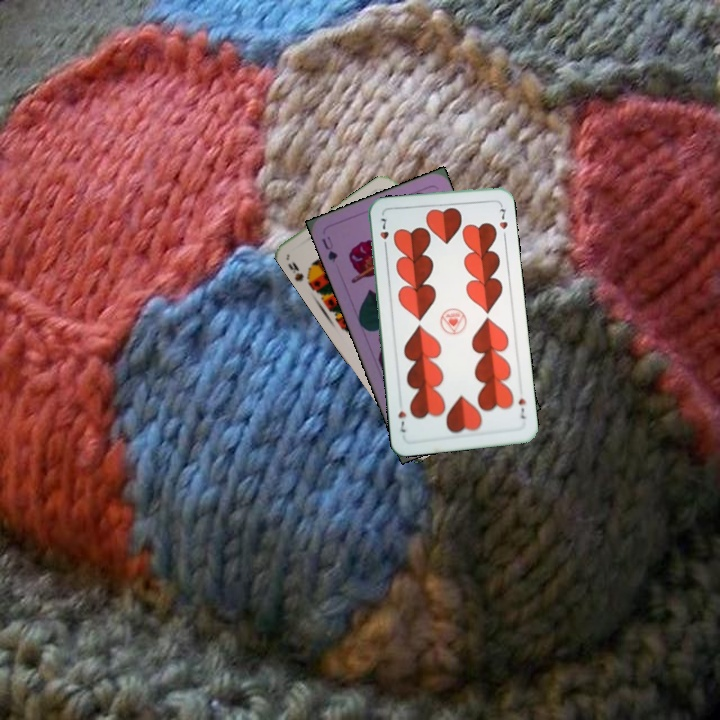GU: (317, 232, 340, 265)
H7: (376, 214, 391, 252), (514, 394, 528, 421)
S9: (284, 257, 317, 289)
